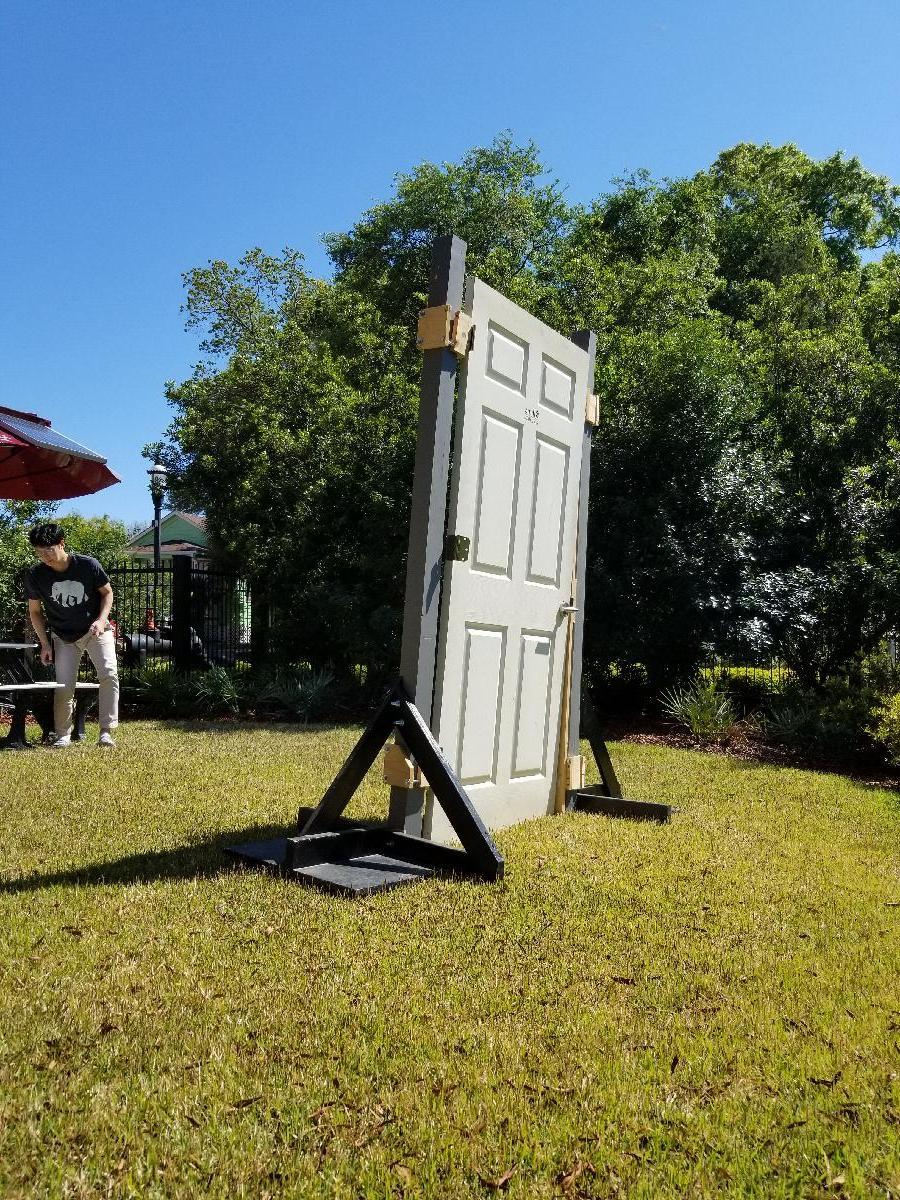door: (427, 274, 591, 851)
handle: (555, 598, 580, 620)
